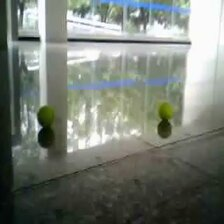tennis: (38, 105, 54, 124), (159, 102, 173, 119)
